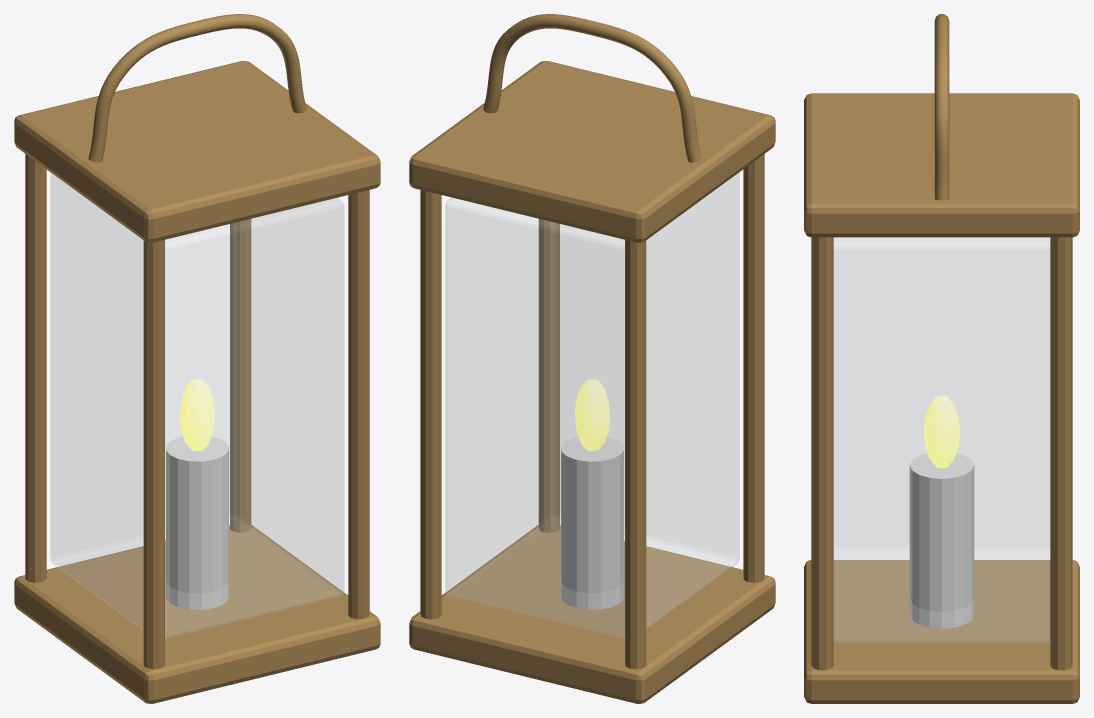
File: lantern-deck.glb
The picture shows the model from 3 angles, left to right: view 1: azimuth 30°, elevation 25°; view 2: azimuth 150°, elevation 25°; view 3: azimuth 270°, elevation 25°; orthographic projection.
Parts seen in each view (by area): view 1: glass, cap, base, candle, post, post.002, post.001, post.003, handle, flame; view 2: glass, cap, base, candle, post.001, post.003, post, post.002, handle, flame; view 3: glass, cap, base, candle, post.002, post.003, handle, flame.
Part boxes in pixels (<box>): glass: <box>50,172,344,638</box>; cap: <box>14,61,380,242</box>; base: <box>14,525,380,703</box>; candle: <box>166,436,228,609</box>; post: <box>143,240,164,669</box>; post.002: <box>348,190,369,619</box>; post.001: <box>25,154,46,582</box>; post.003: <box>230,219,251,532</box>; handle: <box>88,14,306,162</box>; flame: <box>179,379,215,451</box>; glass: <box>445,172,739,638</box>; cap: <box>409,61,775,242</box>; base: <box>409,525,775,703</box>; candle: <box>561,436,623,609</box>; post.001: <box>625,240,646,669</box>; post.003: <box>420,190,441,619</box>; post: <box>743,154,764,582</box>; post.002: <box>538,219,559,532</box>; handle: <box>483,14,701,162</box>; flame: <box>574,379,610,451</box>; glass: <box>834,237,1049,642</box>; cap: <box>804,93,1079,237</box>; base: <box>804,560,1079,703</box>; candle: <box>909,453,974,628</box>; post.002: <box>811,237,833,670</box>; post.003: <box>1050,237,1072,670</box>; handle: <box>934,14,949,200</box>; flame: <box>923,395,960,468</box>.
Size of the model in its own units: 0.3 by 0.7376 by 0.3.
